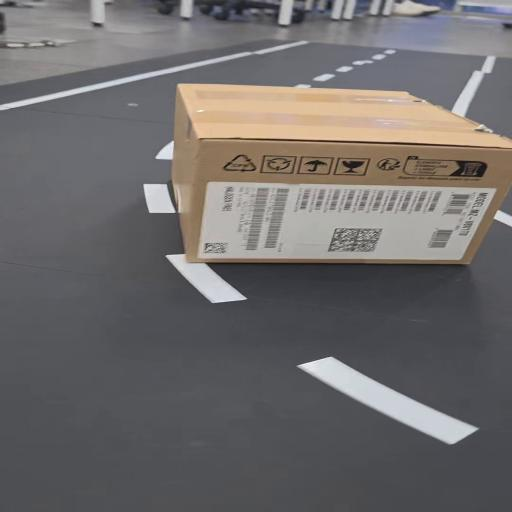Box: (169, 80, 512, 274)
